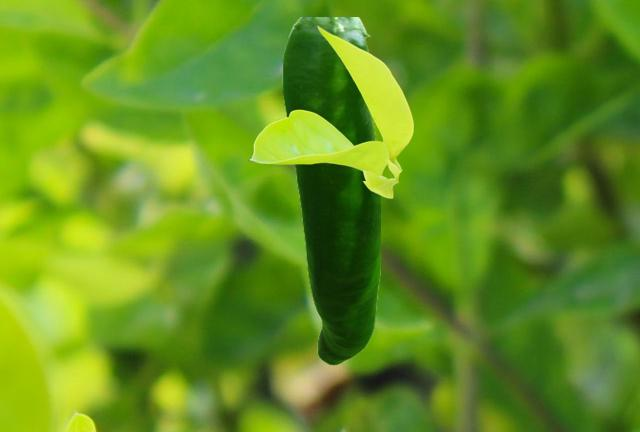green_chili: (282, 17, 379, 364)
